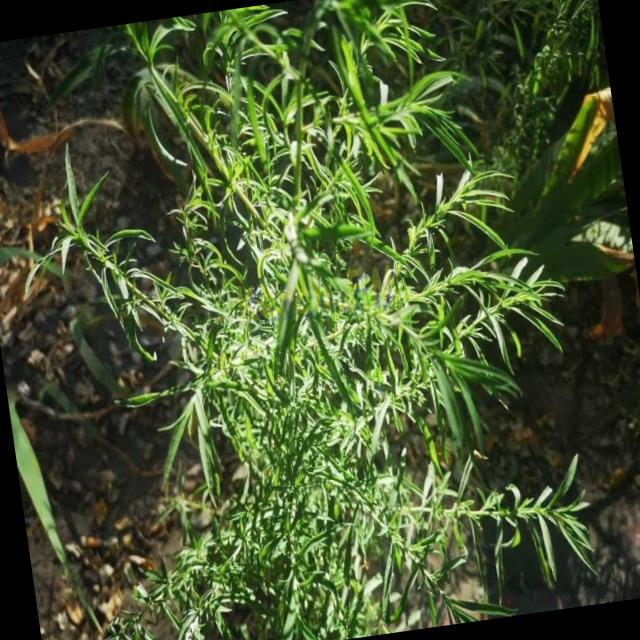ambrosia: (178, 232, 464, 565)
